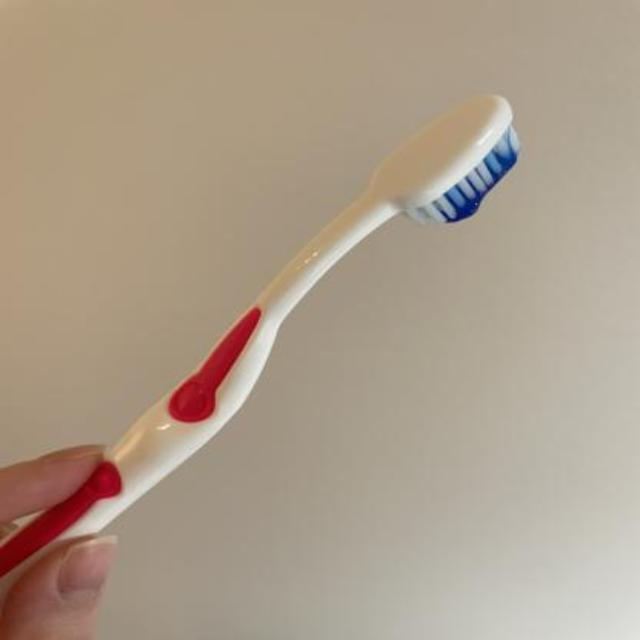toothbrush: (10, 79, 534, 575)
